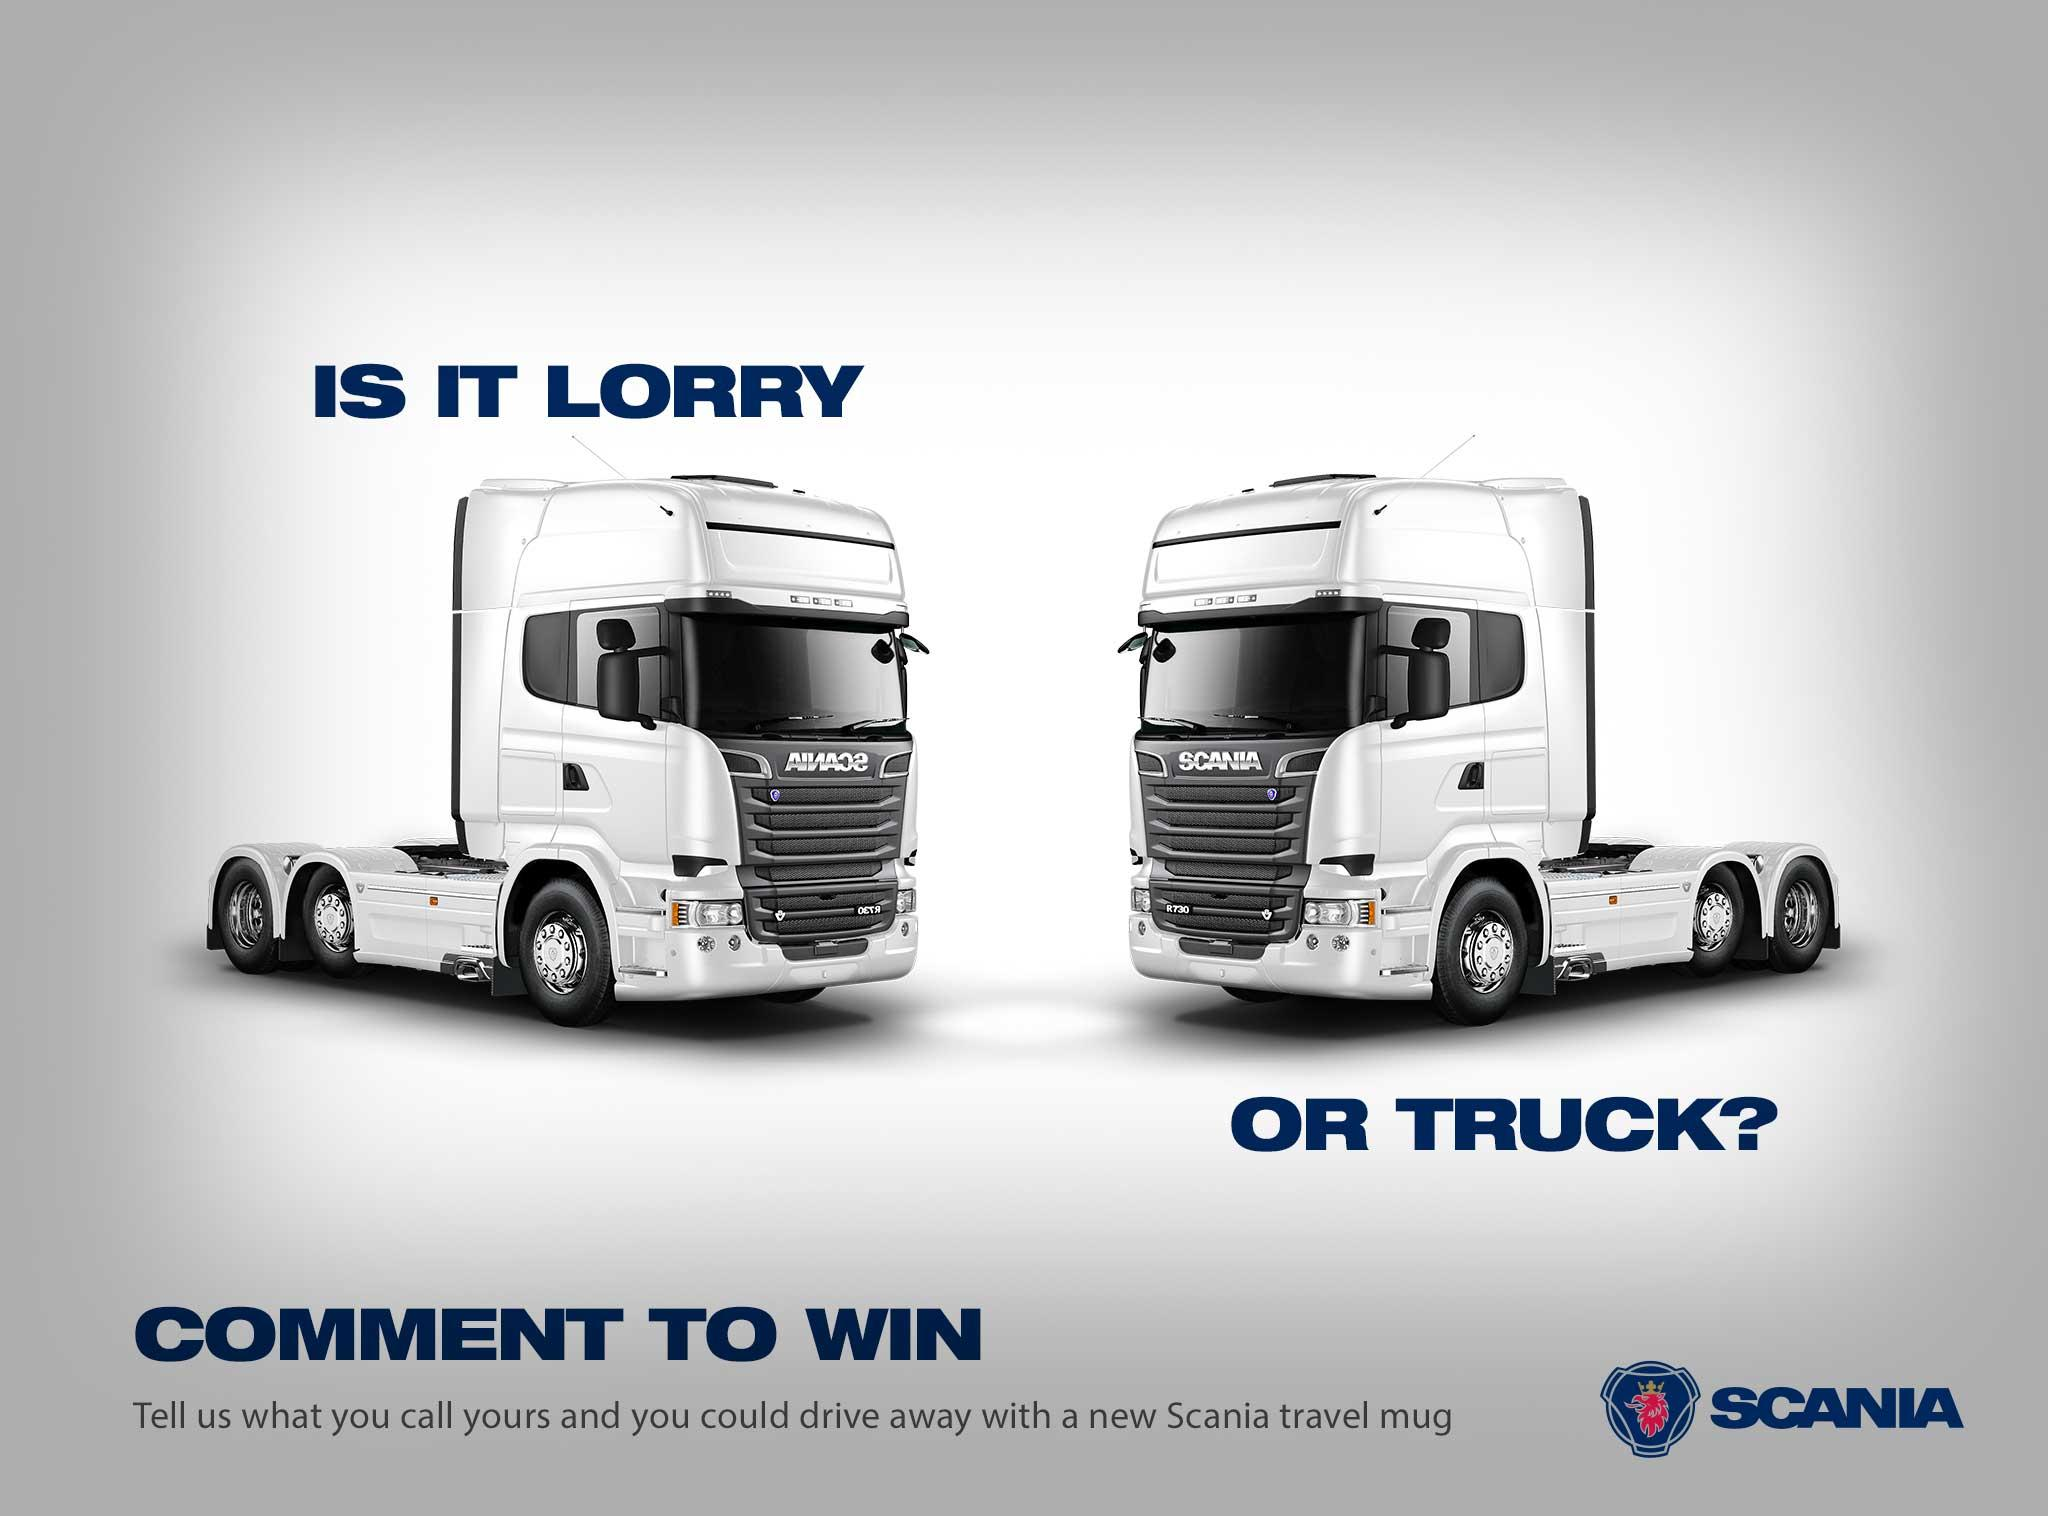truck: (1129, 471, 1843, 1029), (207, 473, 917, 1030)
